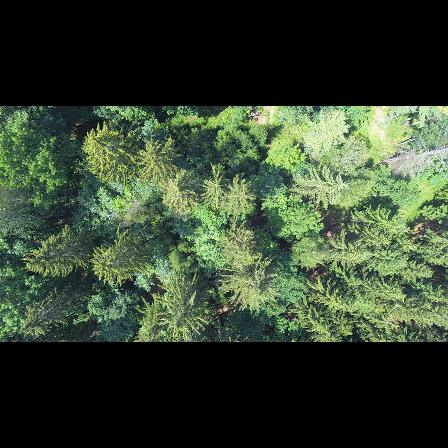Dead: (382, 128, 448, 176)
